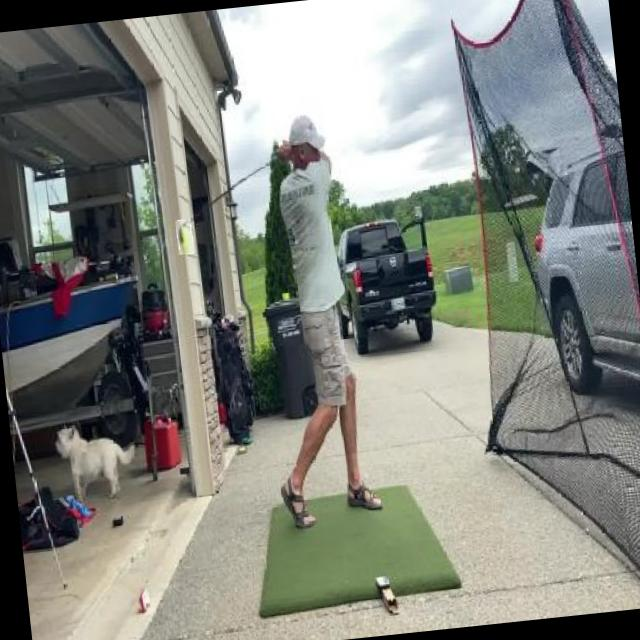club head: (175, 218, 194, 254)
